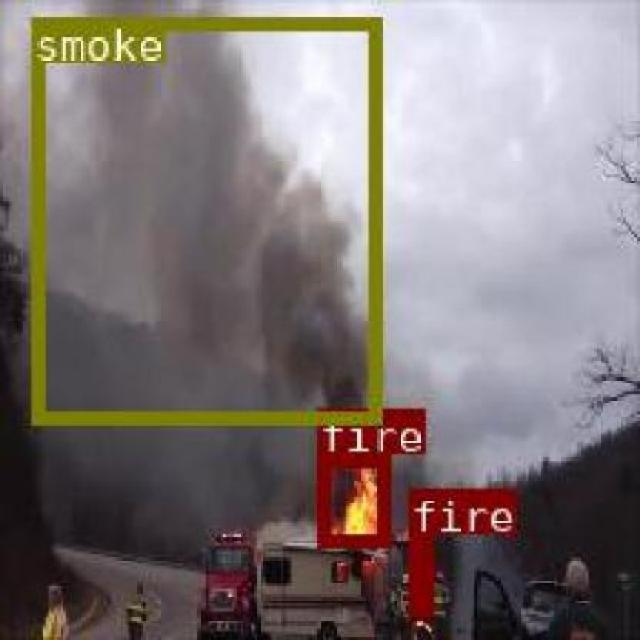Fire: (314, 453, 388, 544), (406, 532, 432, 612)
Smoke: (29, 15, 378, 422)
